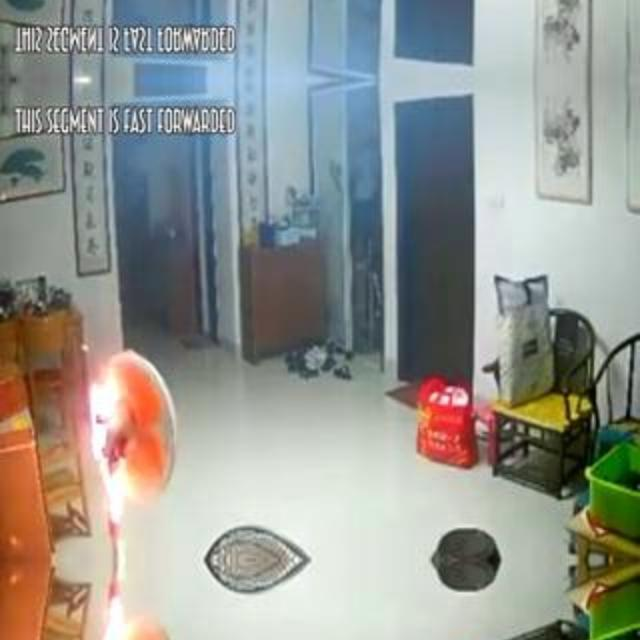smoke: (84, 374, 154, 524), (84, 596, 154, 640)
